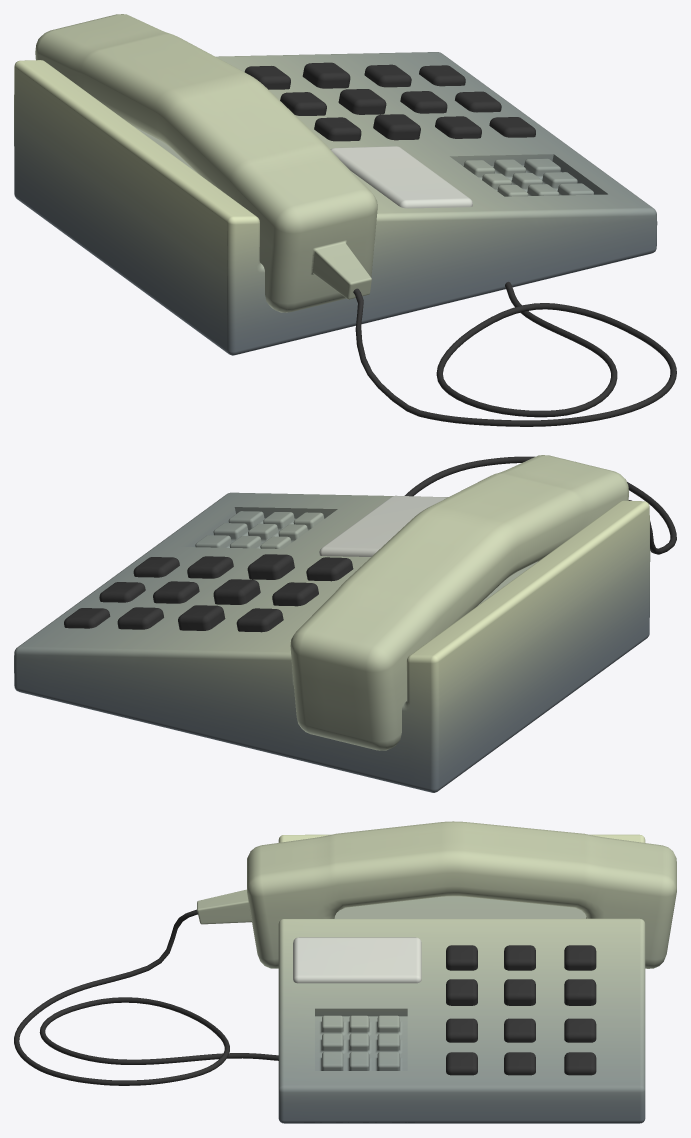
Rendered from Phone.fbx.
The picture shows the model from 3 angles, top to bottom: view 1: azimuth 30°, elevation 25°; view 2: azimuth 150°, elevation 25°; view 3: azimuth 270°, elevation 25°; orthographic projection. The views are drawn at different scales.
Parts seen in each view (by area): view 1: Pc_cableMesh1; view 2: Pc_cableMesh1; view 3: Pc_cableMesh1.
Boxes of the visible parts, x1=… form: Pc_cableMesh1: x1=14, y1=14, x2=676, y2=426; Pc_cableMesh1: x1=14, y1=455, x2=676, y2=792; Pc_cableMesh1: x1=14, y1=821, x2=676, y2=1123.
Size of the model in its own units: 54.6 by 21.58 by 86.92.
Materials: 1 (1 with a texture image).
